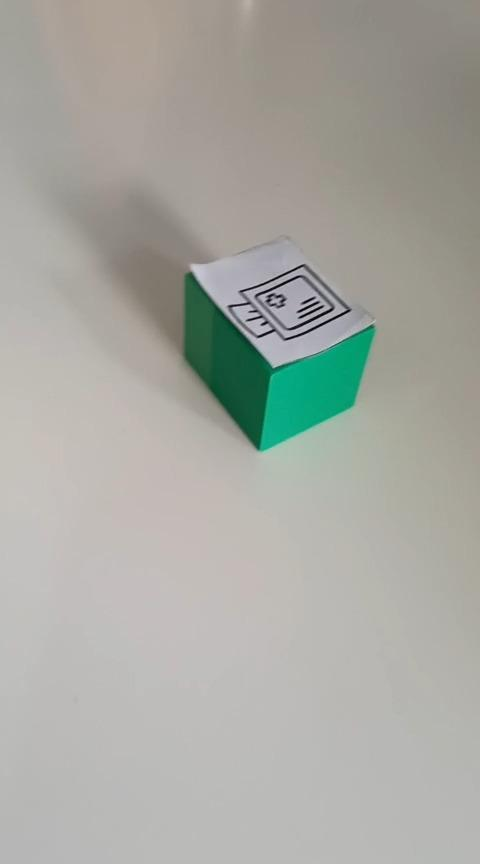Gauze: (182, 232, 376, 452)
